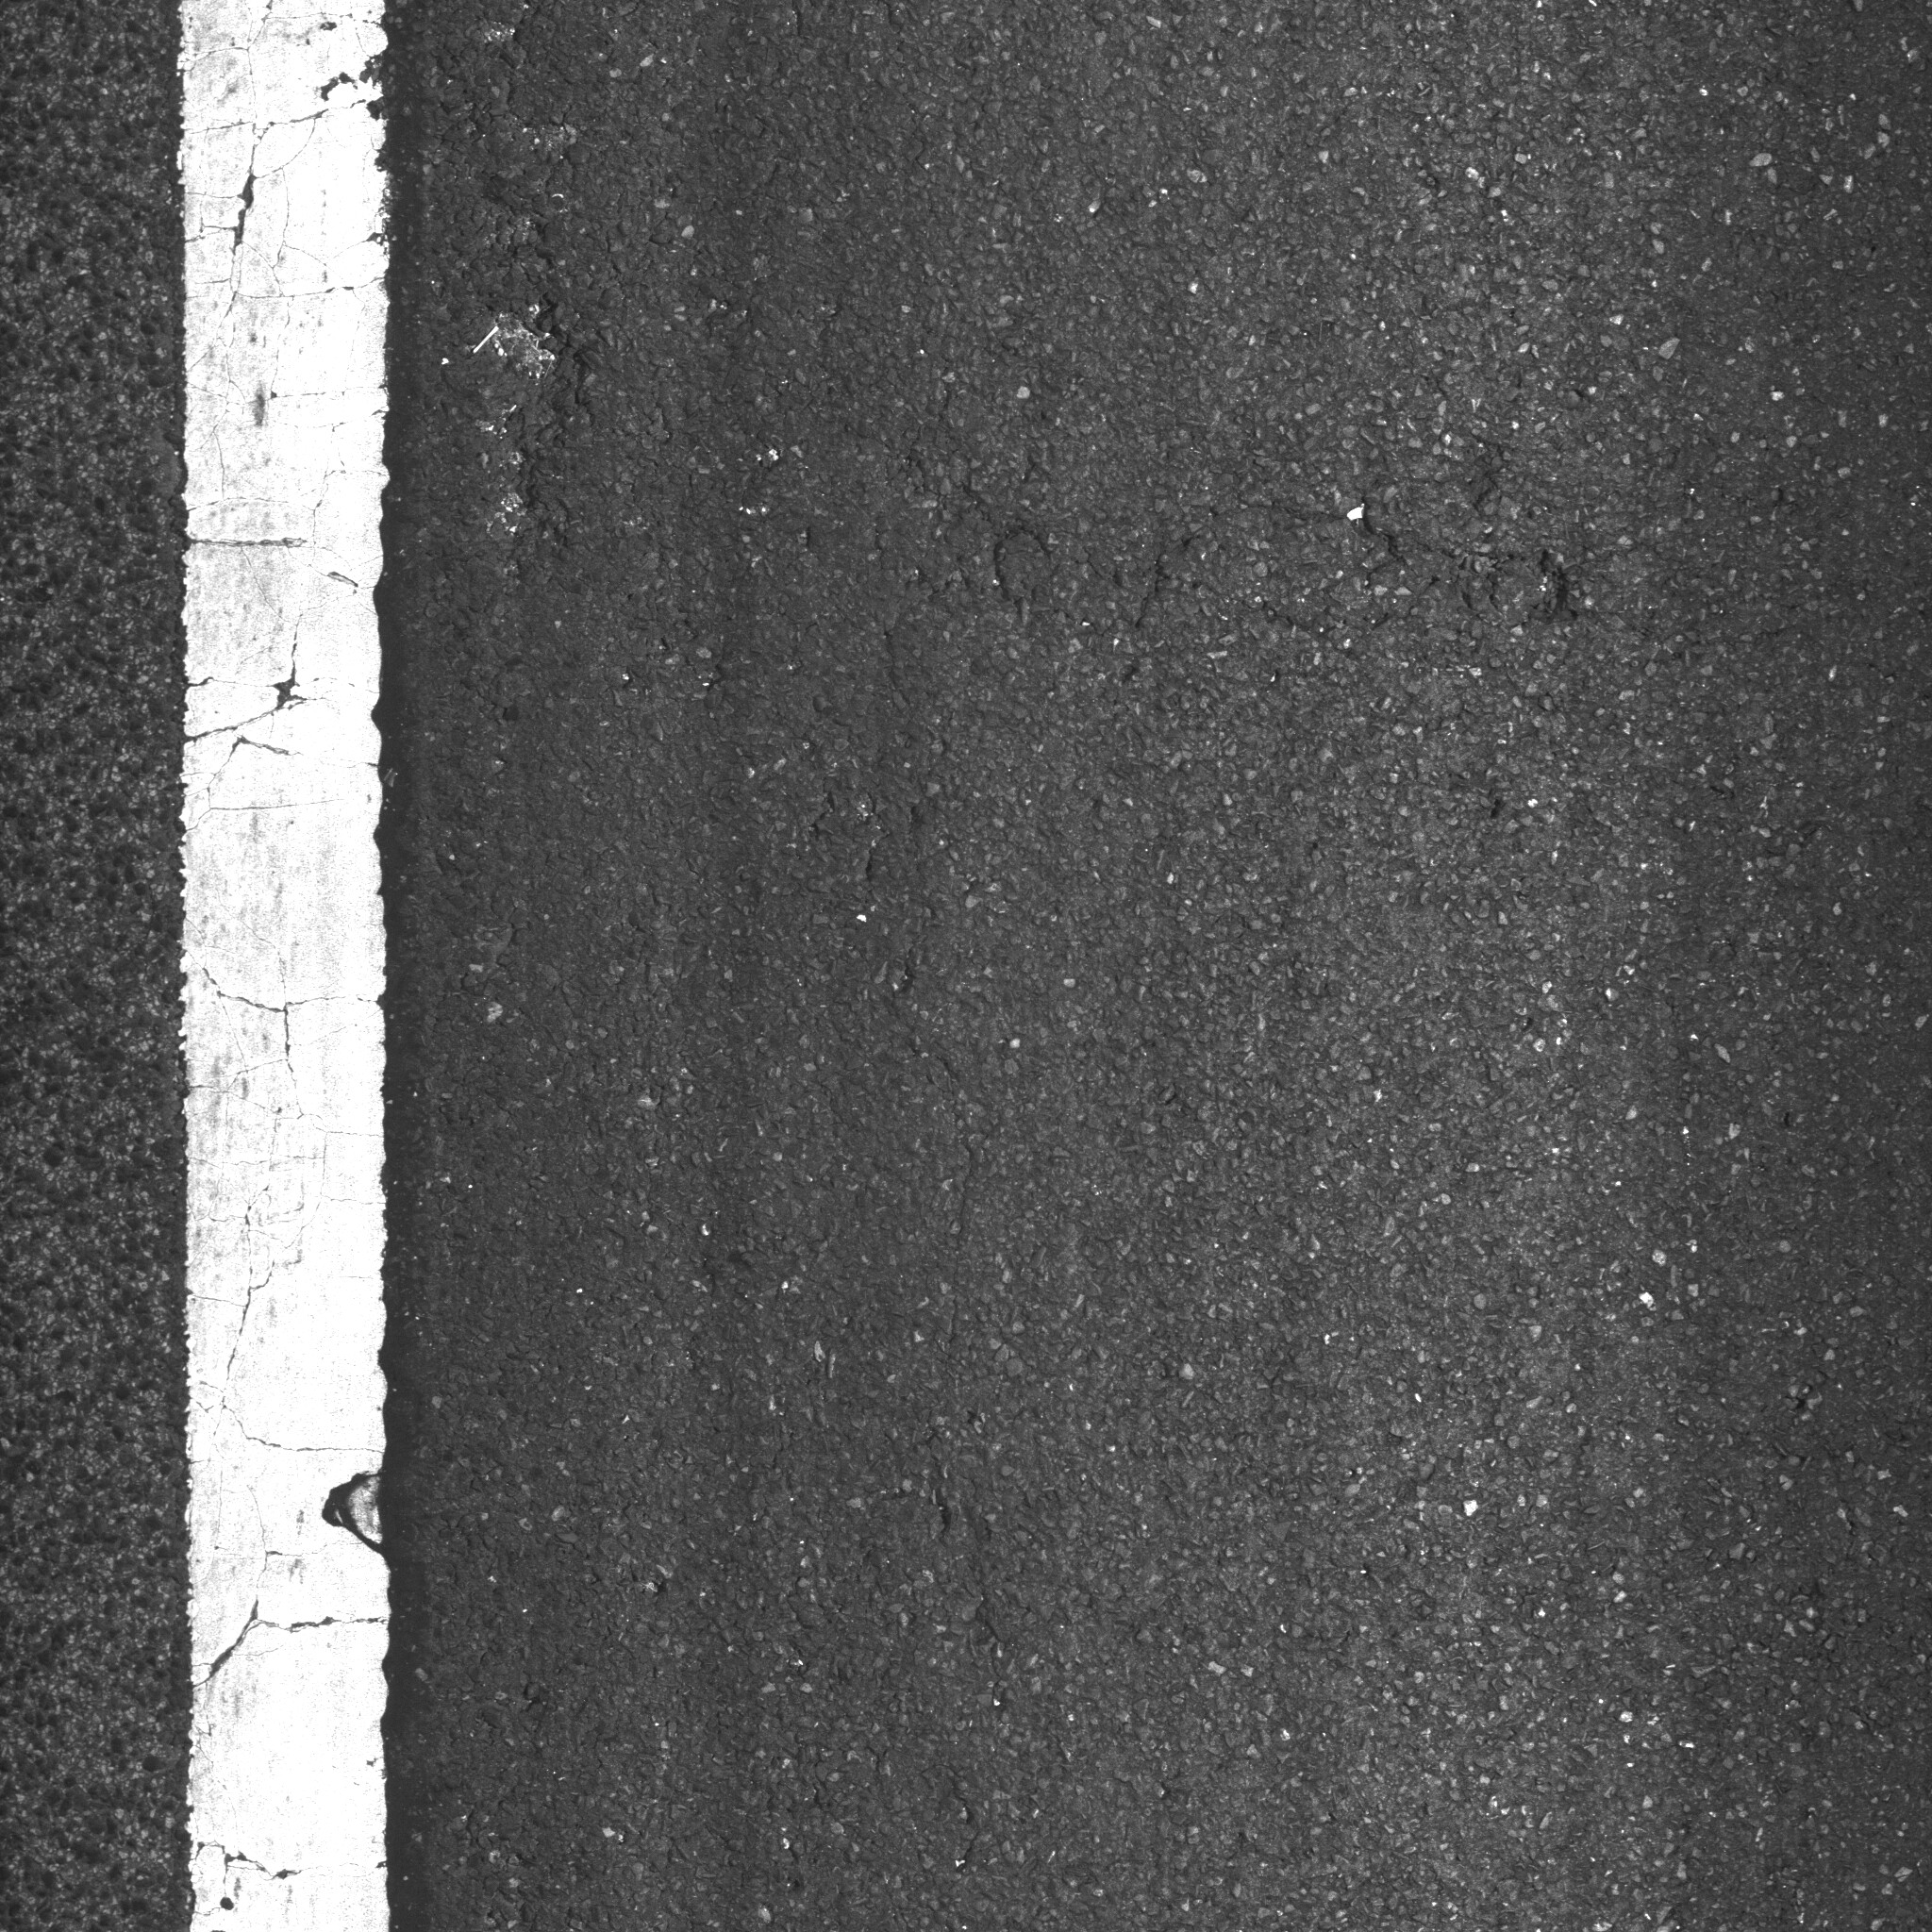longitudinal: (833, 520, 1056, 1663)
